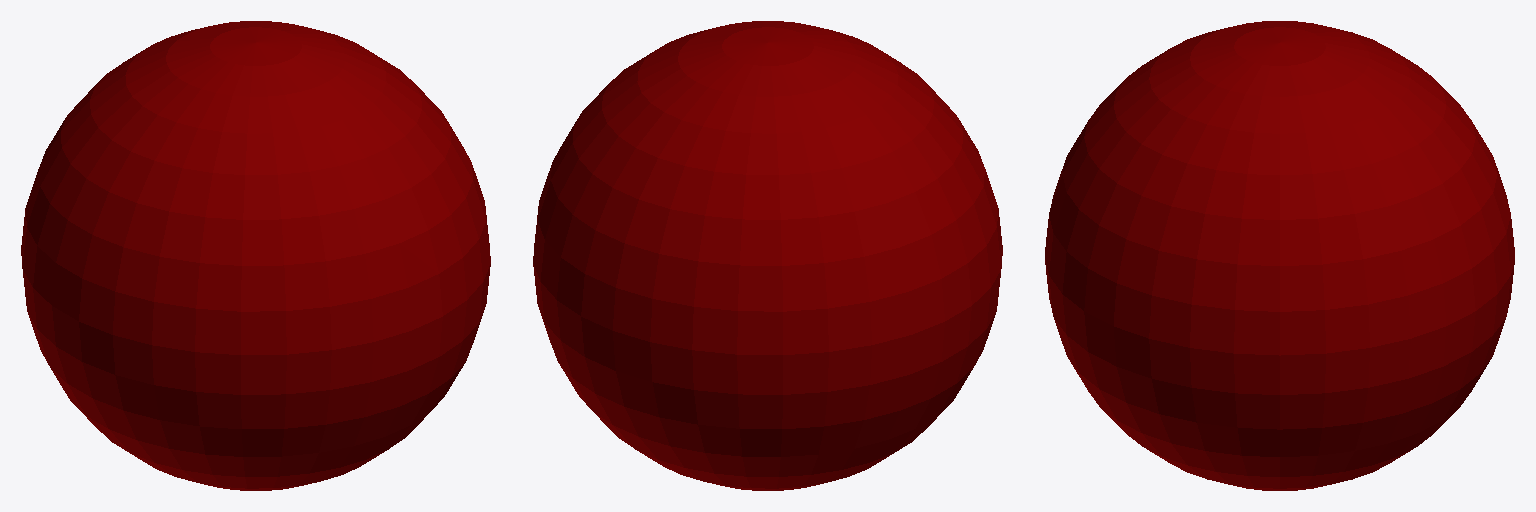
The model's file is ball1.obj.
3 renders of one model, left to right at view 1: azimuth 30°, elevation 25°; view 2: azimuth 150°, elevation 25°; view 3: azimuth 270°, elevation 25°, orthographic.
Visible parts, largest first — view 1: Sphere001; view 2: Sphere001; view 3: Sphere001.
Part boxes in pixels (bbox=[...]): Sphere001: bbox=[21, 21, 490, 490]; Sphere001: bbox=[533, 21, 1002, 490]; Sphere001: bbox=[1045, 21, 1514, 490].
Size of the model in its own units: 12 by 12 by 12.